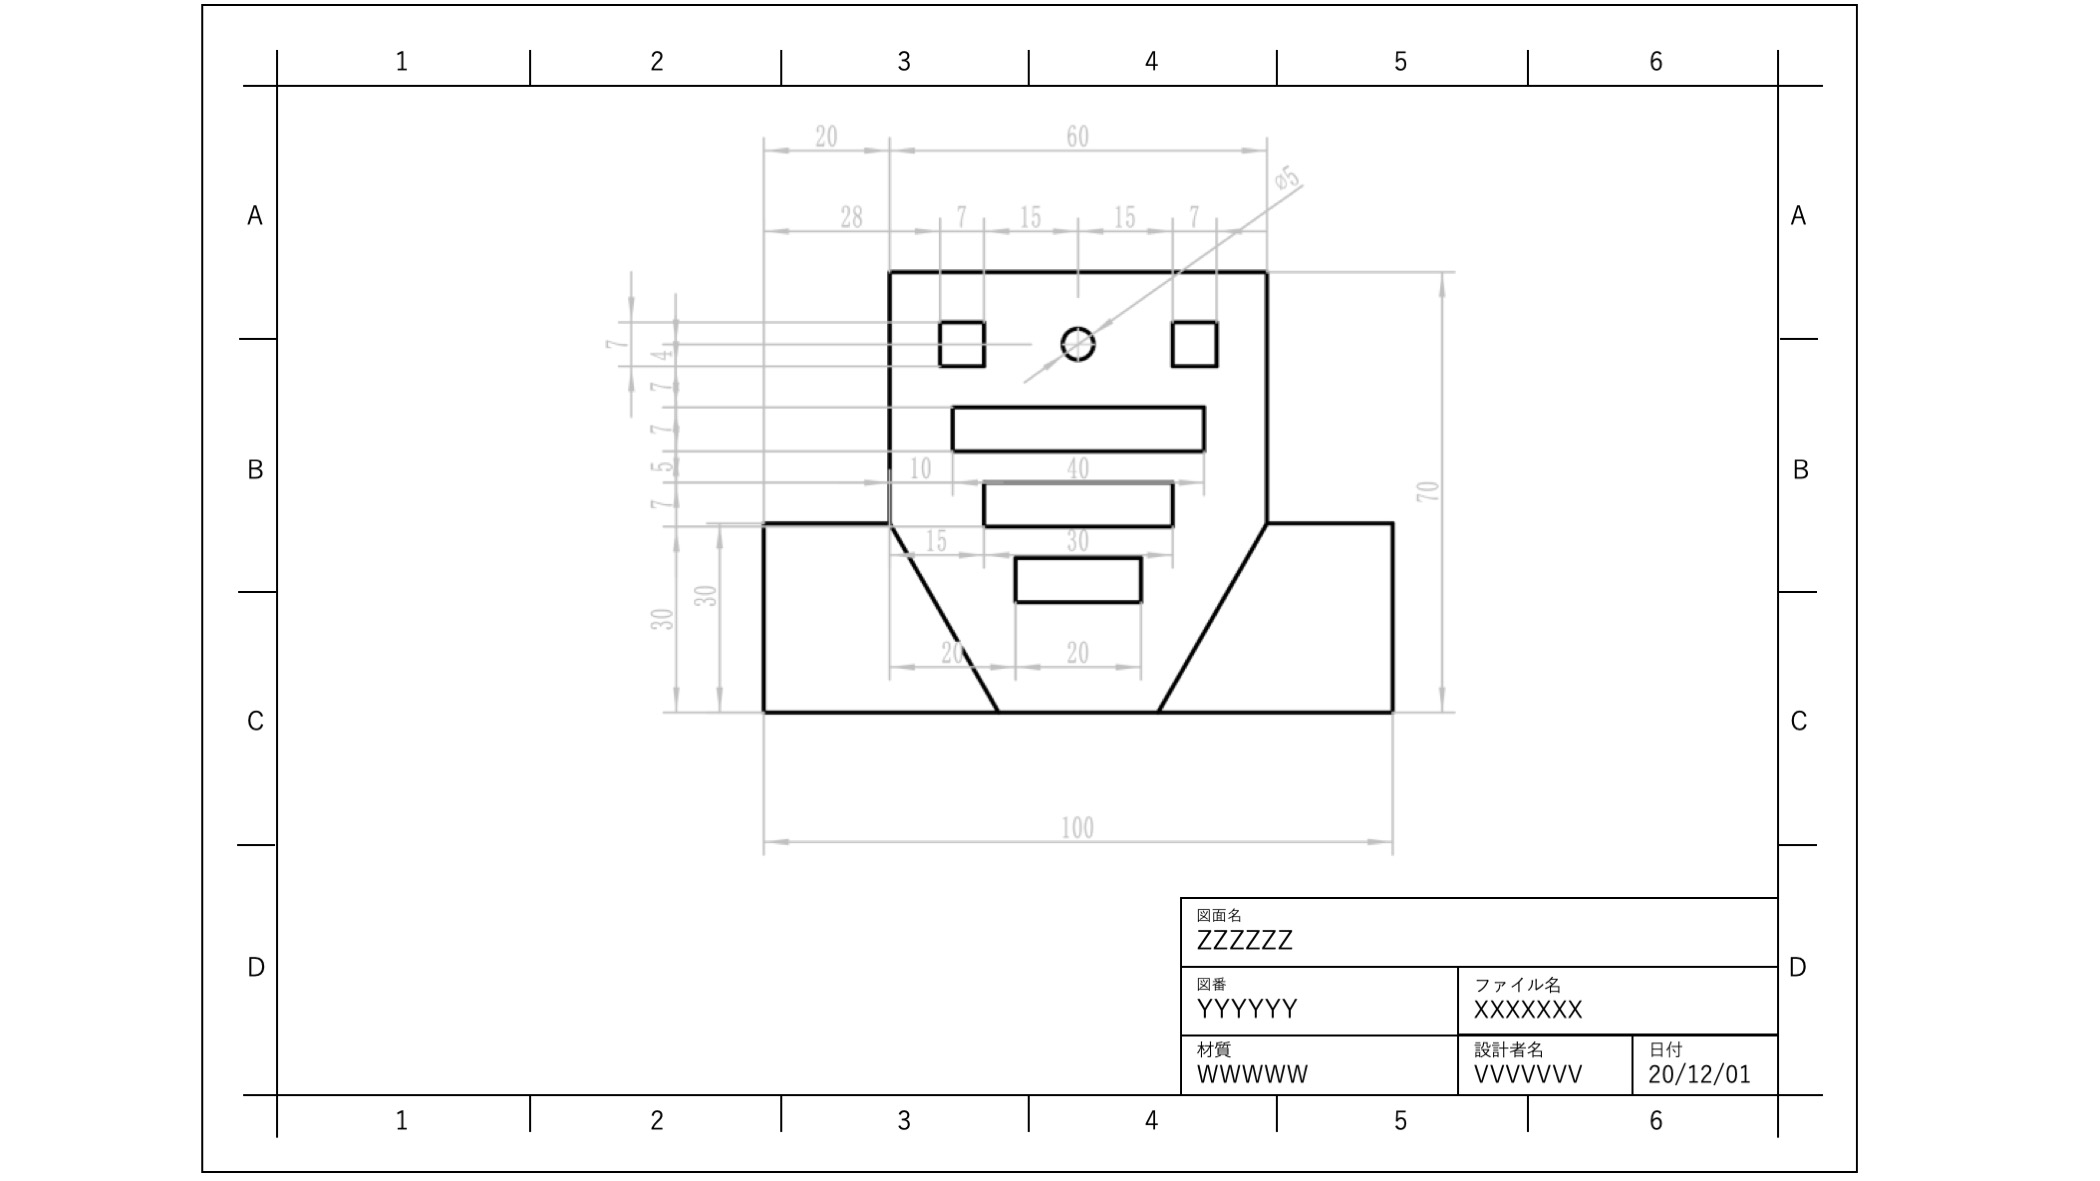circle: (1062, 317, 1099, 366)
rectangle: (945, 397, 1213, 459), (975, 472, 1183, 538), (1010, 549, 1154, 611), (930, 311, 997, 376), (1162, 309, 1225, 376)
